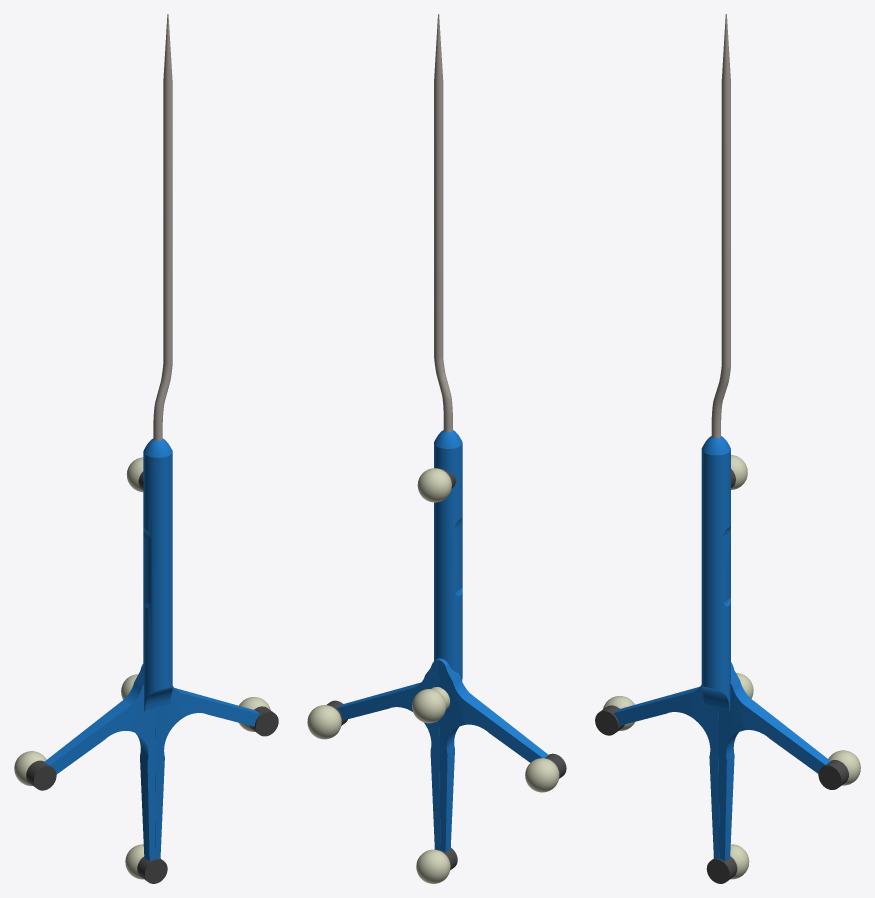
File: Niddle.fbx
3 renders of one model, left to right at view 1: azimuth 30°, elevation 25°; view 2: azimuth 150°, elevation 25°; view 3: azimuth 330°, elevation 25°, orthographic. The views are drawn at different scales.
Parts seen in each view (by area): view 1: Cylinder, Cube.001, Cylinder.005, Sphere.005, Cylinder.004; view 2: Cylinder, Cube.001, Sphere.005, Sphere.001, Sphere.004, Sphere.003; view 3: Cylinder, Cube.001, Cylinder.005, Sphere.005, Cylinder.004.
Boxes of the visible parts, x1,y1,x2,y2 form: Cylinder: (143,14,172,711); Cube.001: (44,664,260,861); Cylinder.005: (26,706,278,790); Sphere.005: (14,697,270,786); Cylinder.004: (137,856,167,883); Cylinder: (434,14,462,680); Cube.001: (337,658,548,852); Sphere.005: (307,705,559,792); Sphere.001: (416,849,450,883); Sphere.004: (417,468,451,502); Sphere.003: (412,689,446,723); Cylinder: (701,14,730,710); Cube.001: (613,662,830,861); Cylinder.005: (595,705,848,789); Sphere.005: (603,696,860,785); Cylinder.004: (706,856,737,883).
Bounding box in the file's own units: 119 × 392 × 28.97.
